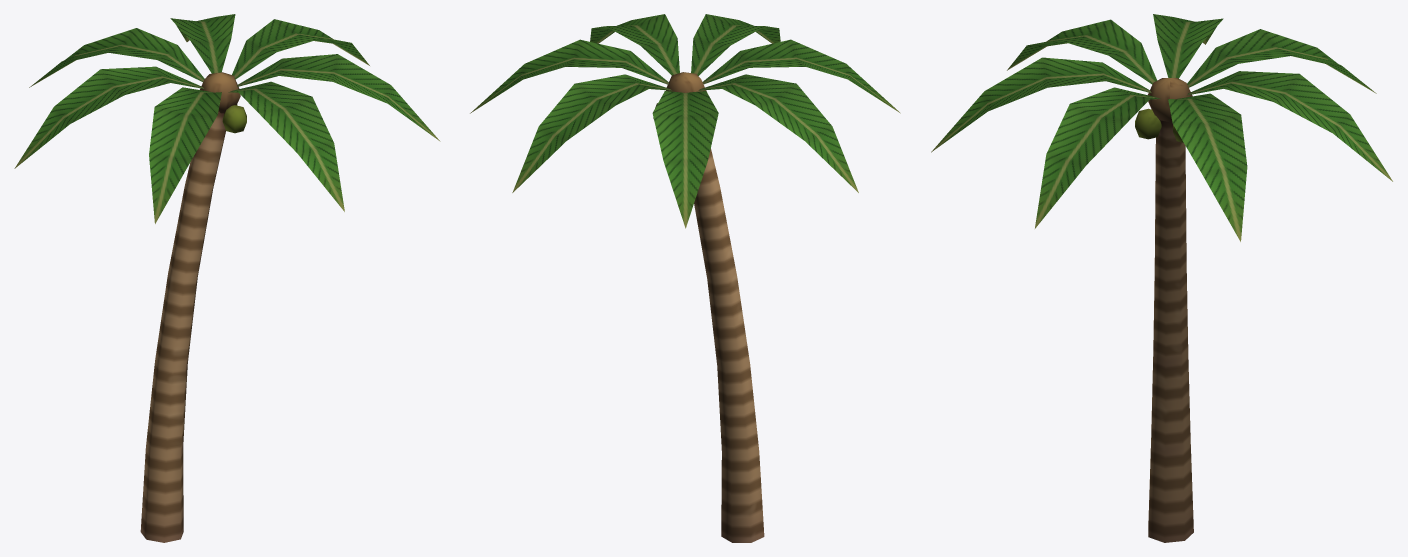
The model's file is palm_tree.obj.
3 views of the same model, side by side, from view 1: azimuth 30°, elevation 25°; view 2: azimuth 150°, elevation 25°; view 3: azimuth 270°, elevation 25° (orthographic). The views are drawn at different scales.
Visible parts, largest first — view 1: PalmTree; view 2: PalmTree; view 3: PalmTree.
Boxes of the visible parts, box(x1,y1,x2,y2) form: PalmTree: box(14, 14, 440, 542); PalmTree: box(470, 14, 900, 542); PalmTree: box(931, 14, 1392, 542).
Bounding box in the file's own units: 5.83 × 6.82 × 5.78.
Materials: 1 (1 with a texture image).
